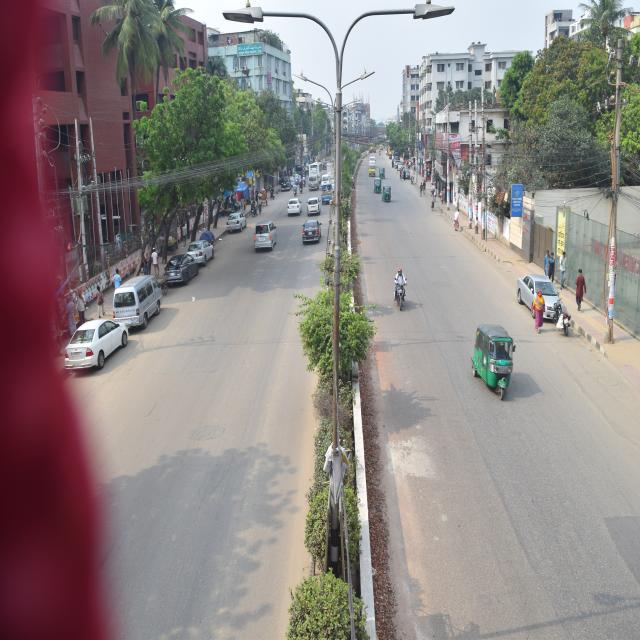car: (60, 310, 131, 378), (516, 264, 559, 312), (164, 247, 205, 285), (186, 219, 213, 274), (305, 214, 326, 262), (279, 187, 303, 223), (216, 214, 252, 232), (306, 191, 322, 219), (320, 171, 337, 196), (304, 158, 317, 187)
microbus: (112, 269, 160, 338), (247, 226, 280, 259)
motorbike: (383, 263, 418, 334), (548, 291, 579, 340)
truck: (366, 160, 378, 176)
